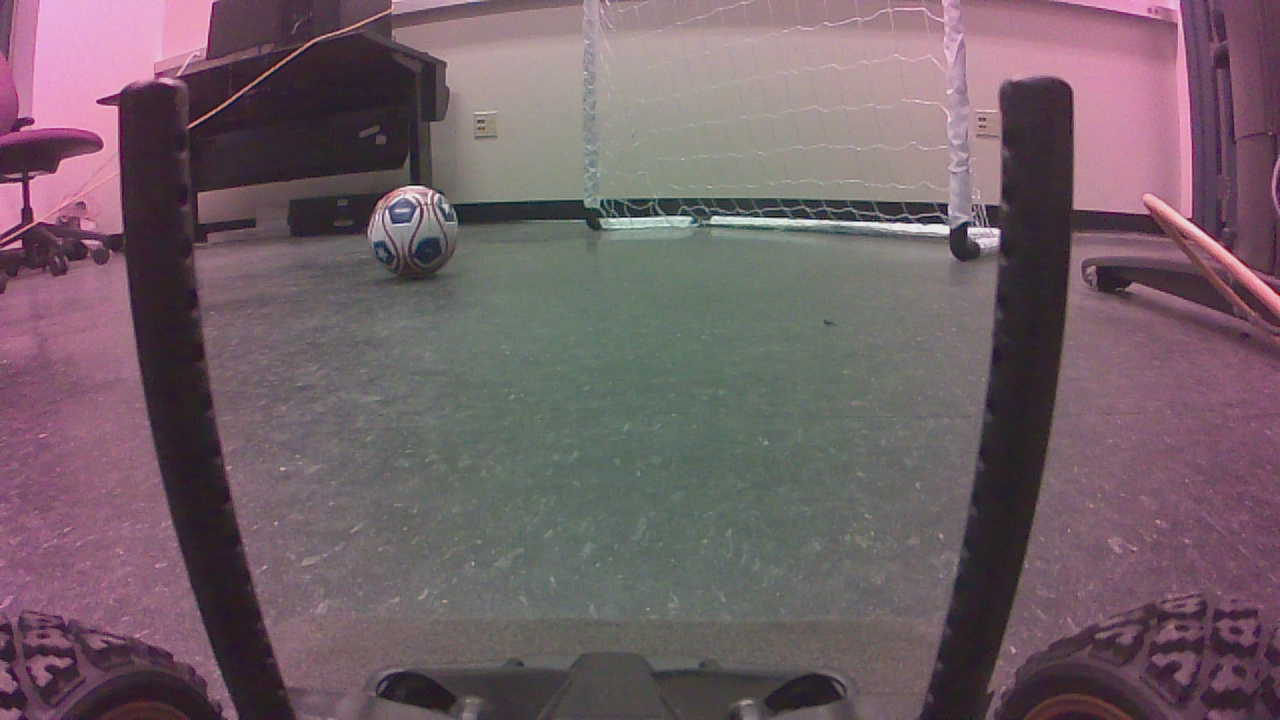ball: (373, 192, 467, 284)
goal: (587, 5, 1005, 262)
